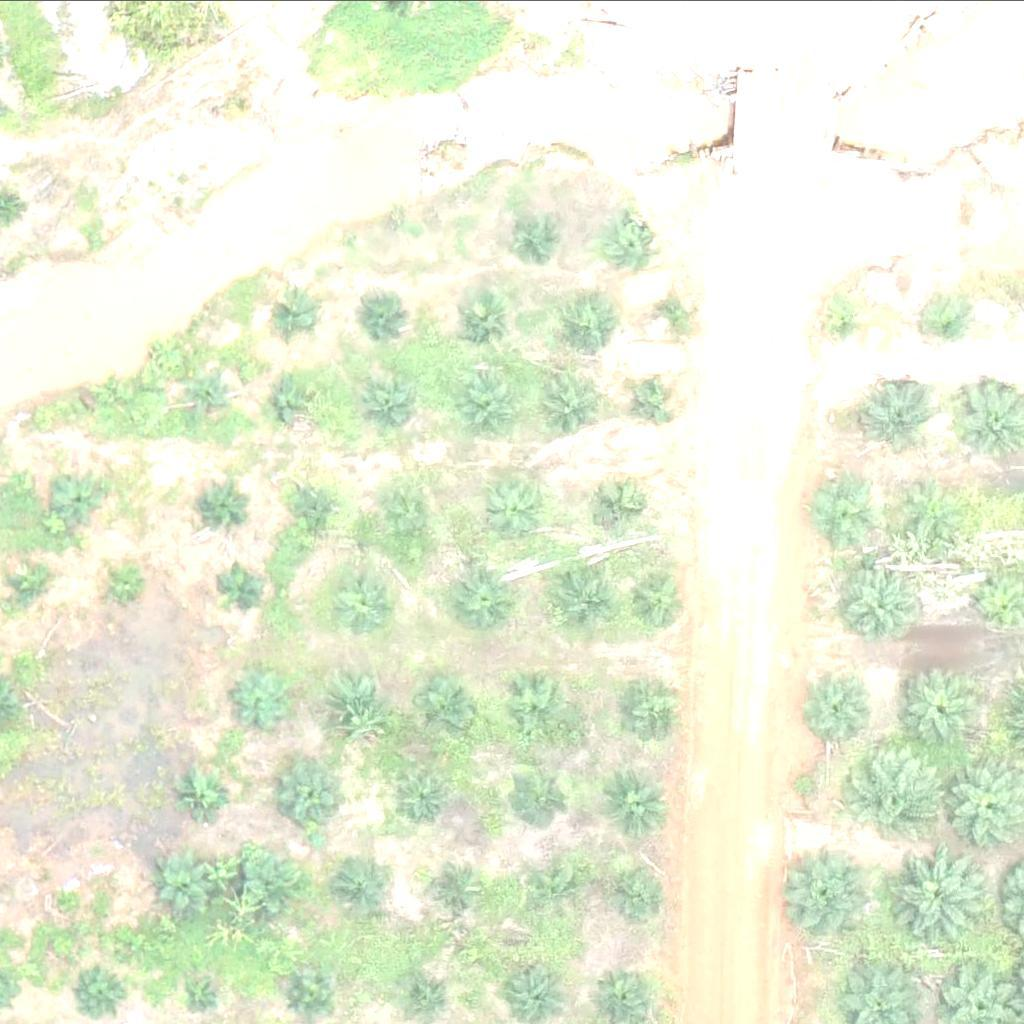Kelapa_Sawit: (848, 742, 948, 842), (881, 847, 981, 947), (782, 845, 870, 933), (837, 558, 925, 645), (894, 663, 982, 750), (859, 380, 935, 455), (804, 670, 880, 745), (386, 488, 449, 551), (362, 373, 425, 436), (179, 765, 242, 828), (279, 761, 342, 824), (606, 774, 669, 837), (459, 375, 522, 438), (504, 678, 567, 741), (611, 680, 674, 743), (511, 764, 574, 827), (628, 568, 691, 631), (809, 479, 872, 542), (555, 288, 618, 351), (540, 374, 603, 437), (155, 851, 218, 914), (418, 678, 481, 740), (333, 567, 396, 629), (231, 668, 294, 730), (550, 565, 613, 627), (524, 853, 587, 915), (454, 568, 517, 630), (905, 474, 968, 536), (492, 479, 555, 541), (590, 474, 653, 536), (450, 289, 513, 351), (244, 850, 307, 912), (331, 672, 394, 734), (606, 858, 668, 920), (625, 374, 676, 424), (646, 288, 697, 338), (74, 967, 125, 1017), (4, 562, 55, 612), (412, 967, 462, 1017), (344, 865, 394, 915), (437, 857, 487, 907), (400, 774, 450, 824), (284, 971, 334, 1021), (361, 285, 411, 335), (192, 478, 242, 528), (217, 560, 267, 610), (187, 371, 237, 421), (56, 472, 106, 522), (272, 375, 322, 425), (271, 289, 321, 339), (612, 217, 662, 267), (507, 207, 557, 257), (820, 295, 870, 345), (927, 299, 977, 349), (296, 481, 346, 531), (176, 967, 226, 1017), (94, 375, 132, 413), (105, 563, 143, 601)
